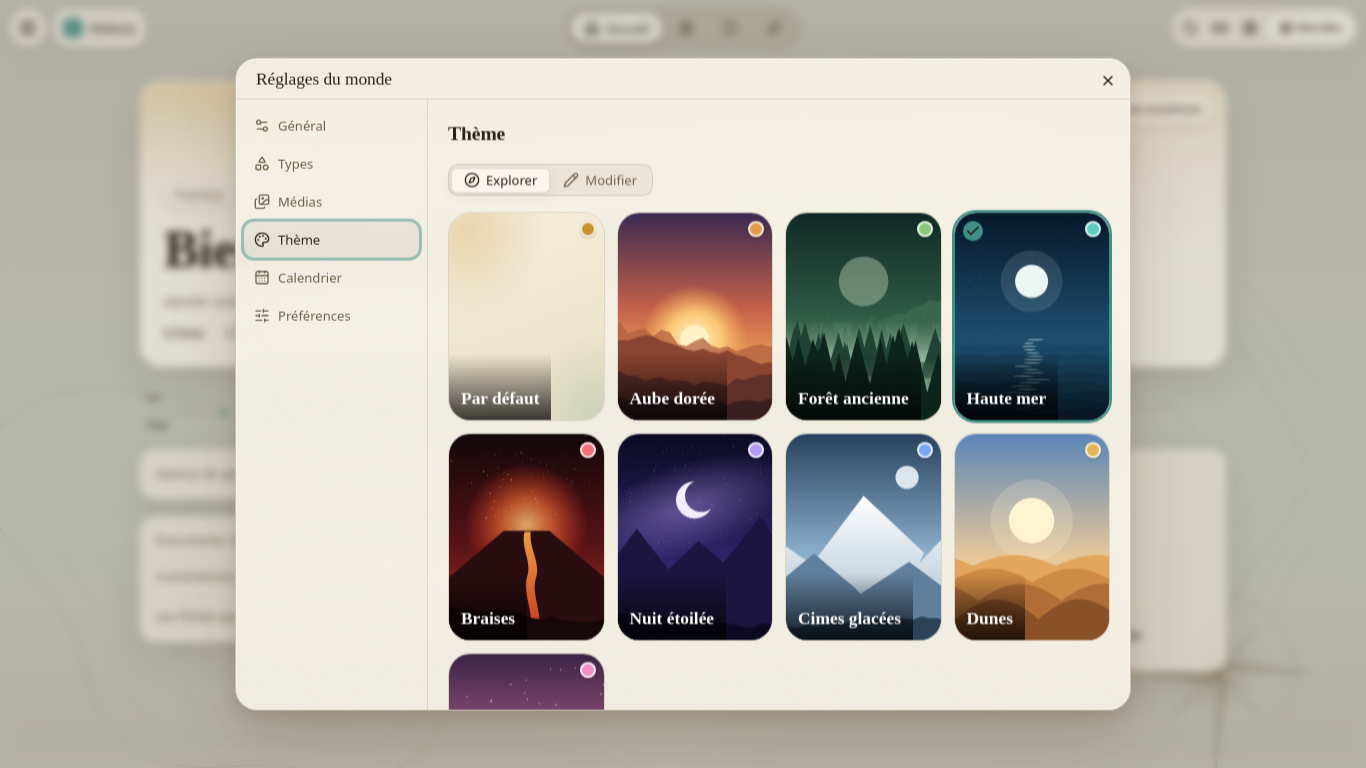
Test: the edit tab makes the world's own theme from the current accent
The image size is (1366, 768).
Press the mouse on the tab "Modifier" at [600, 180], box [550,167,650,192]
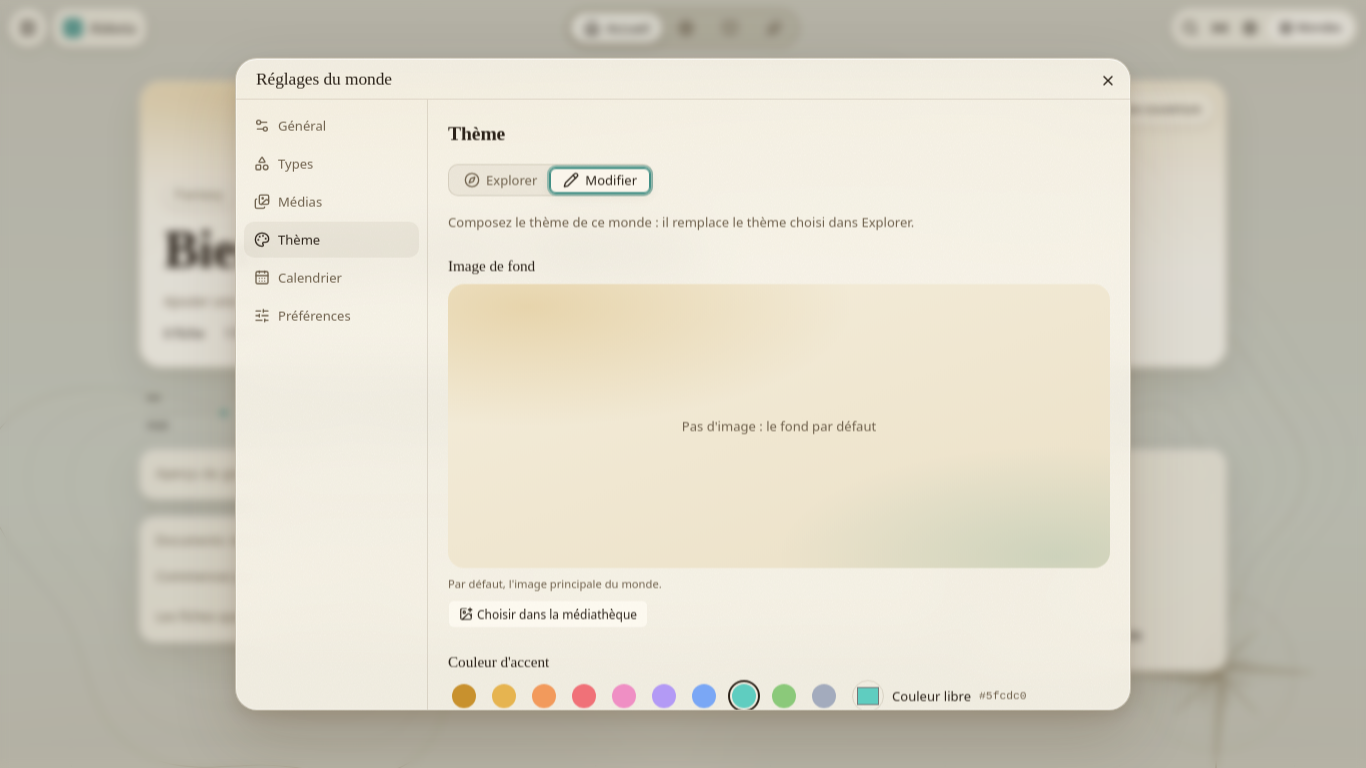
Click the radio button named "Violet" at [664, 695], box [648,679,680,711]
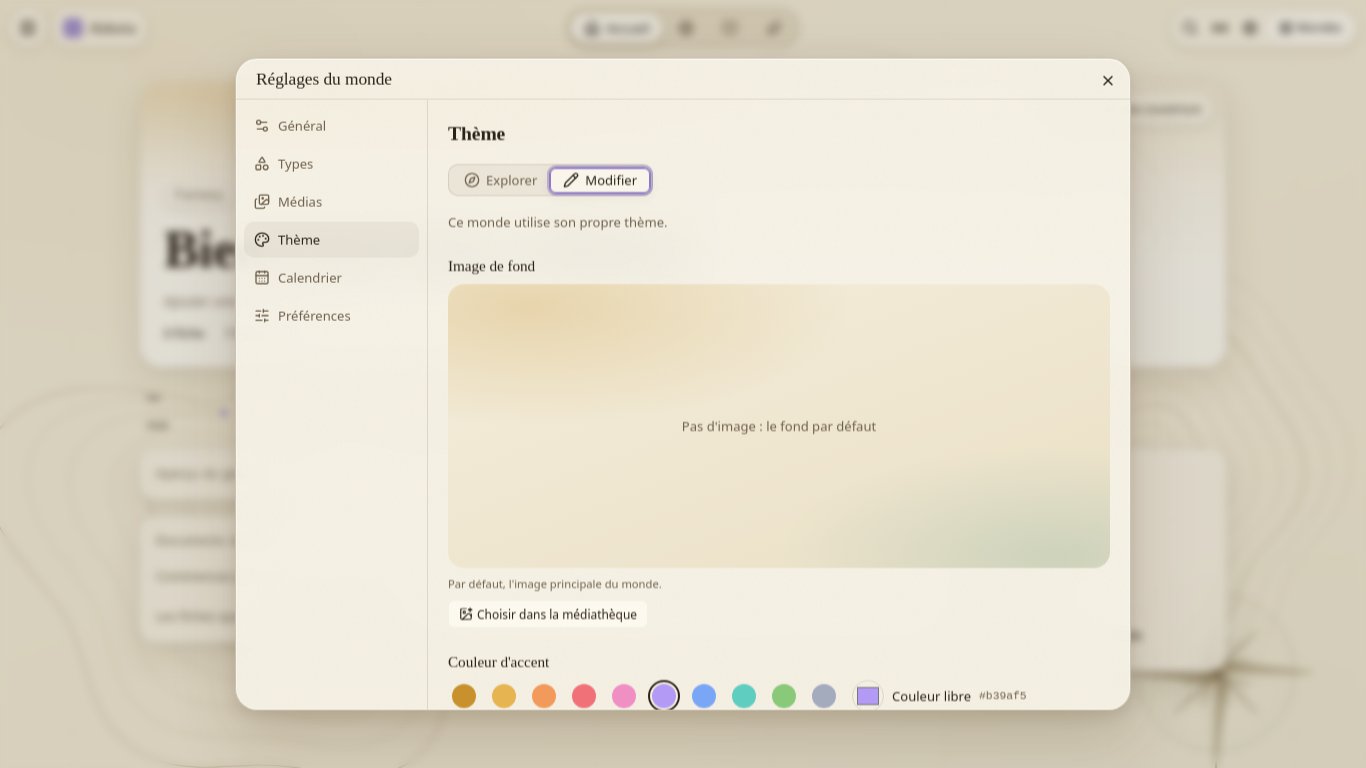
Now the text "Ce monde utilise son propre thème." is shown, box [448,213,668,231]
